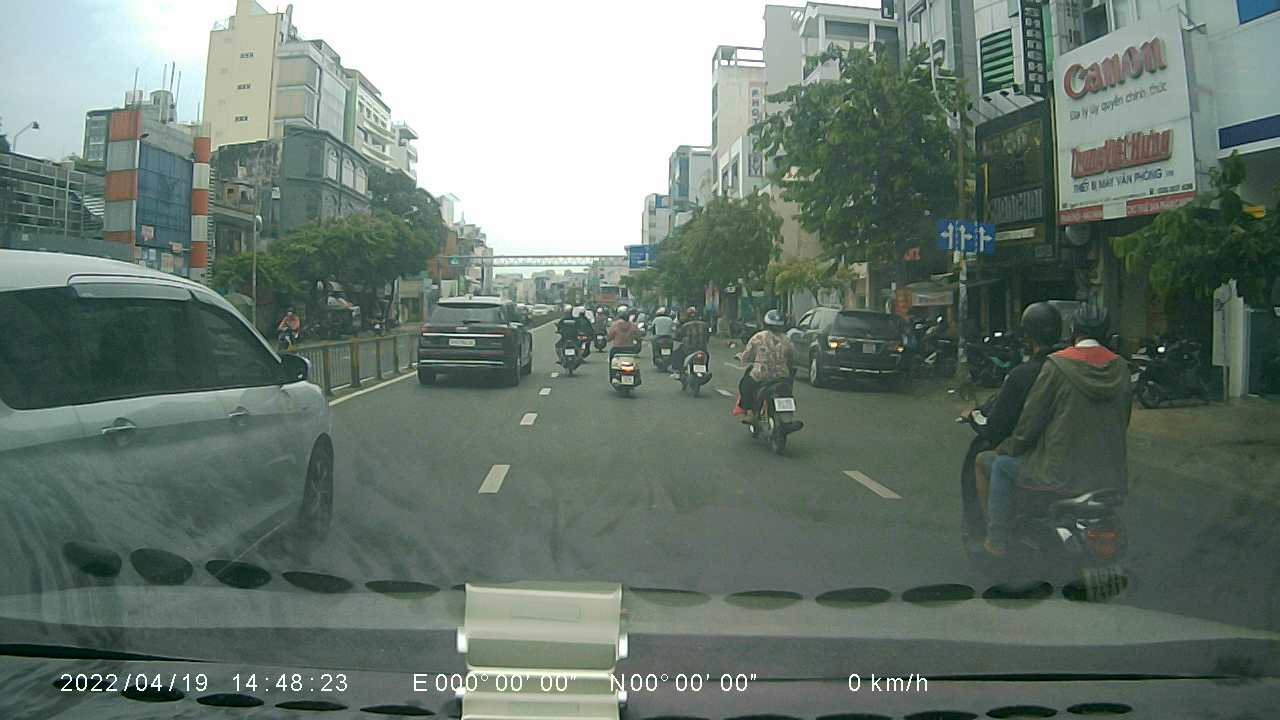Bien khac: (933, 213, 998, 257)
